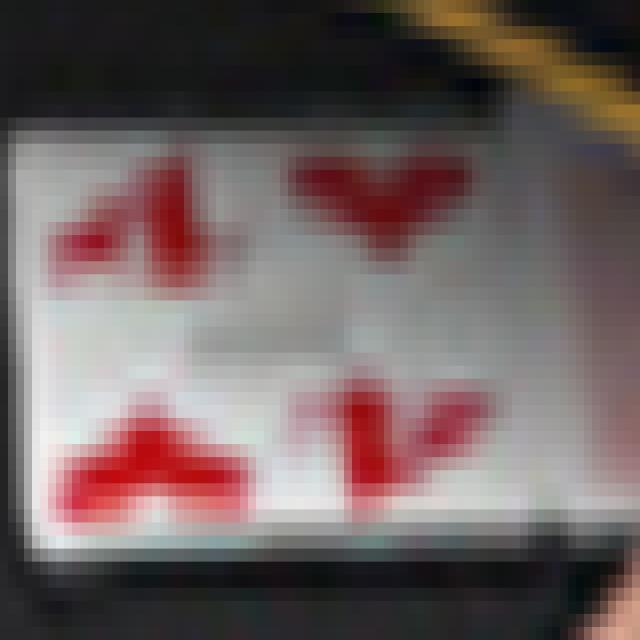Card-4: (25, 140, 544, 558)
